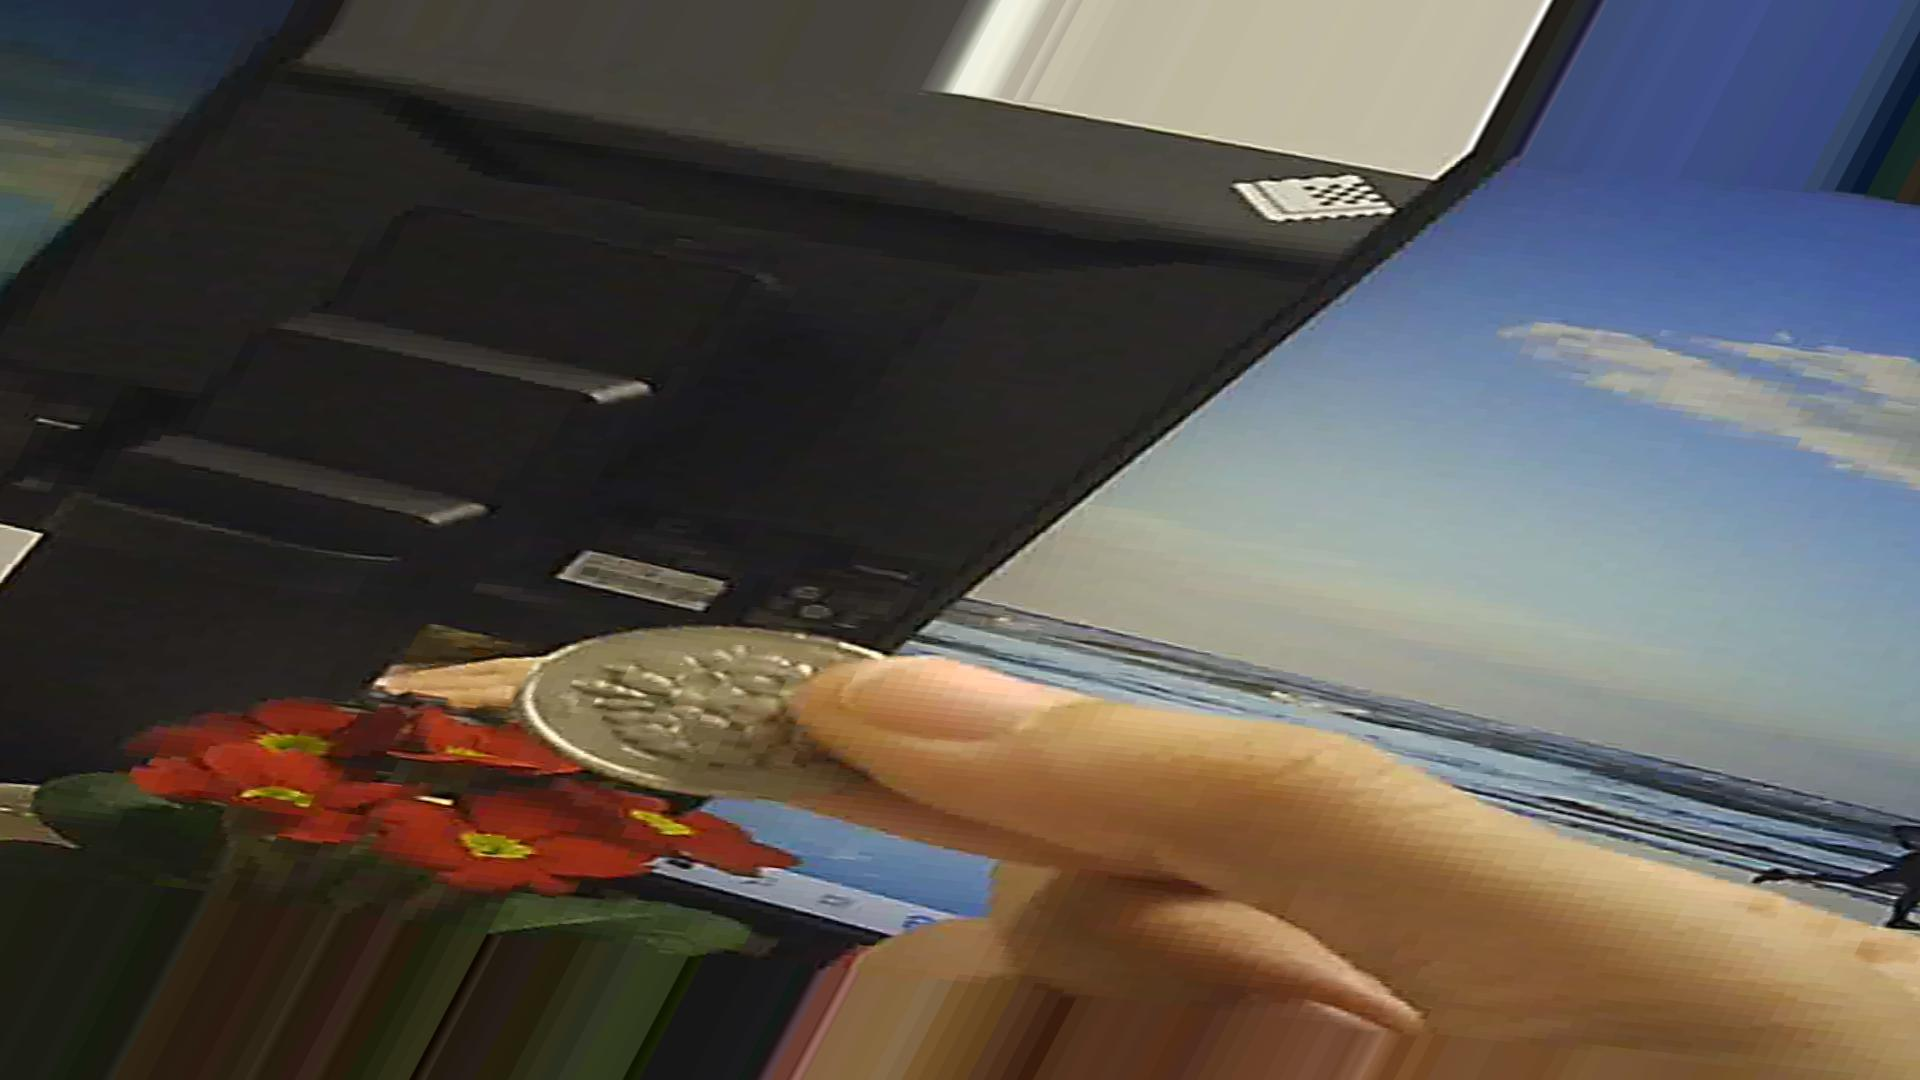100 Yen: (512, 616, 920, 825)
